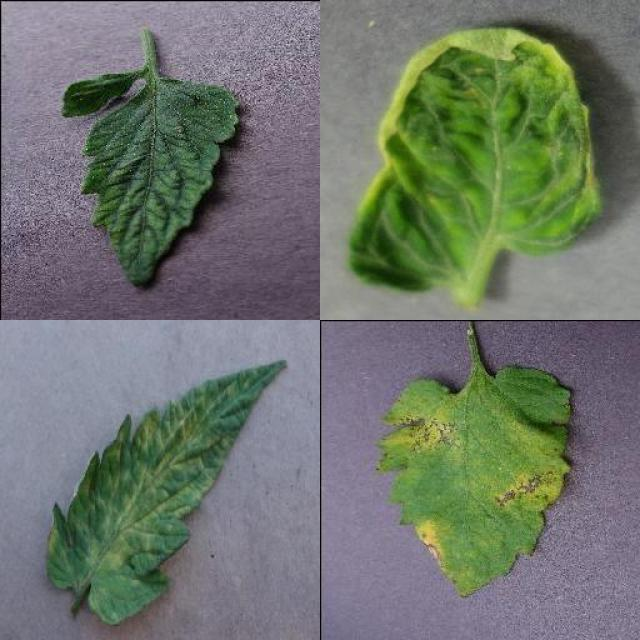Septoria: (372, 368, 572, 600)
